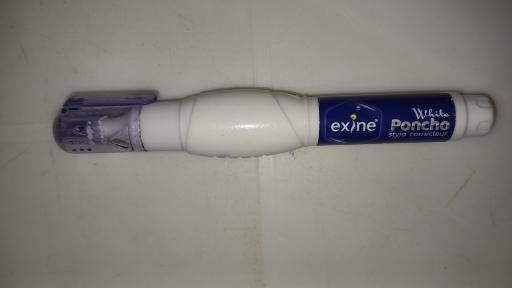Correction pen: (52, 91, 497, 158)
